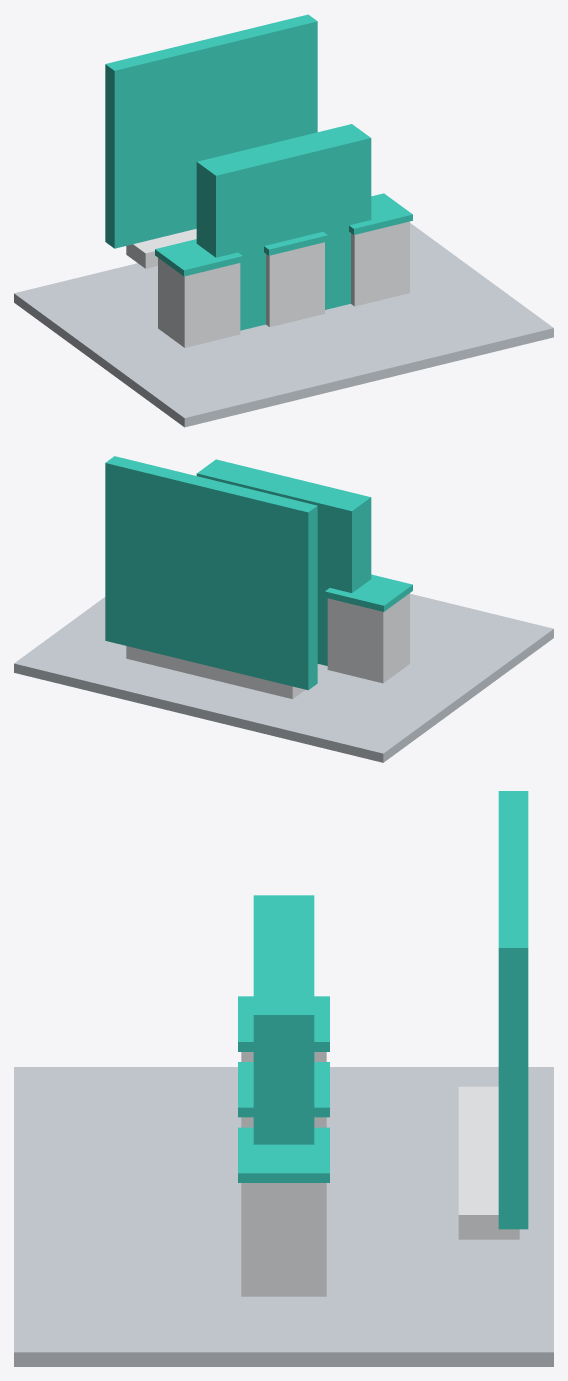
3 renders of one model, top to bottom at view 1: azimuth 30°, elevation 25°; view 2: azimuth 150°, elevation 25°; view 3: azimuth 270°, elevation 25°, orthographic. The views are drawn at different scales.
Visible parts, largest first — view 1: Exhibition Booth Concept; view 2: Exhibition Booth Concept; view 3: Exhibition Booth Concept.
Boxes of the visible parts, left/top/right/bottom form: Exhibition Booth Concept: left=14, top=14, right=553, bottom=427; Exhibition Booth Concept: left=14, top=456, right=553, bottom=762; Exhibition Booth Concept: left=14, top=791, right=553, bottom=1366.
Size of the model in its own units: 5 by 2.9 by 4.
